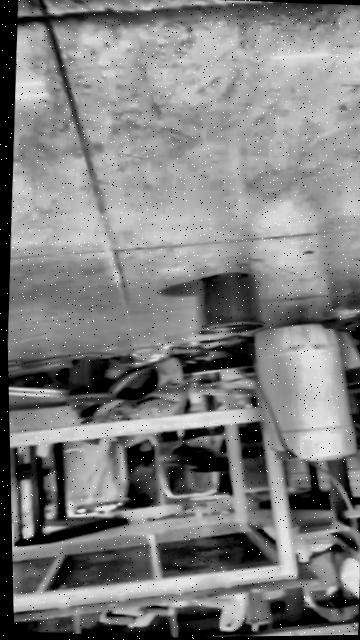pot: (192, 270, 272, 337)
